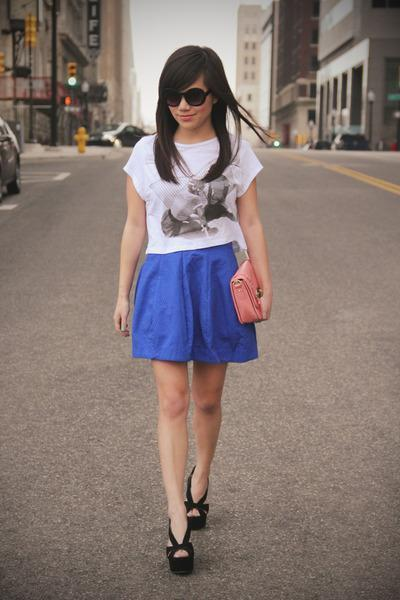bag: (230, 270, 262, 322)
shirt: (123, 134, 263, 253)
shoe: (166, 511, 208, 576)
skirt: (132, 241, 266, 364)
sunglass: (181, 74, 209, 105)
